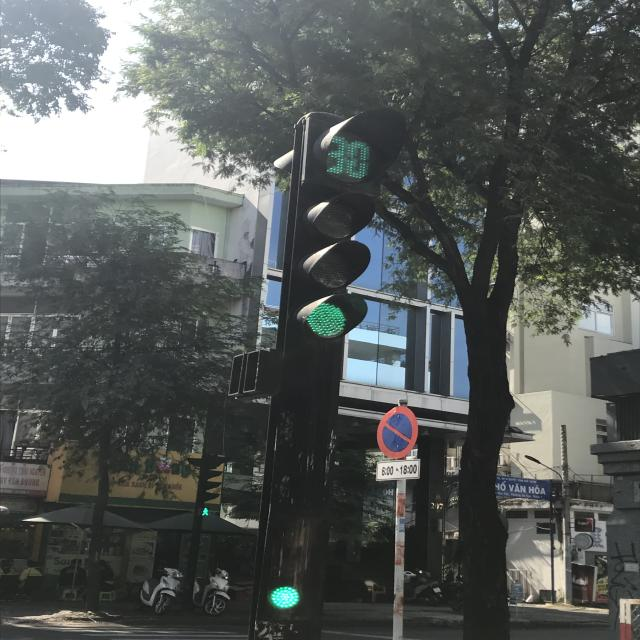Green: (296, 177, 368, 358), (262, 496, 319, 622)
